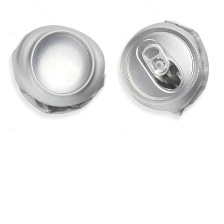can: (114, 12, 214, 122), (8, 25, 110, 118)
